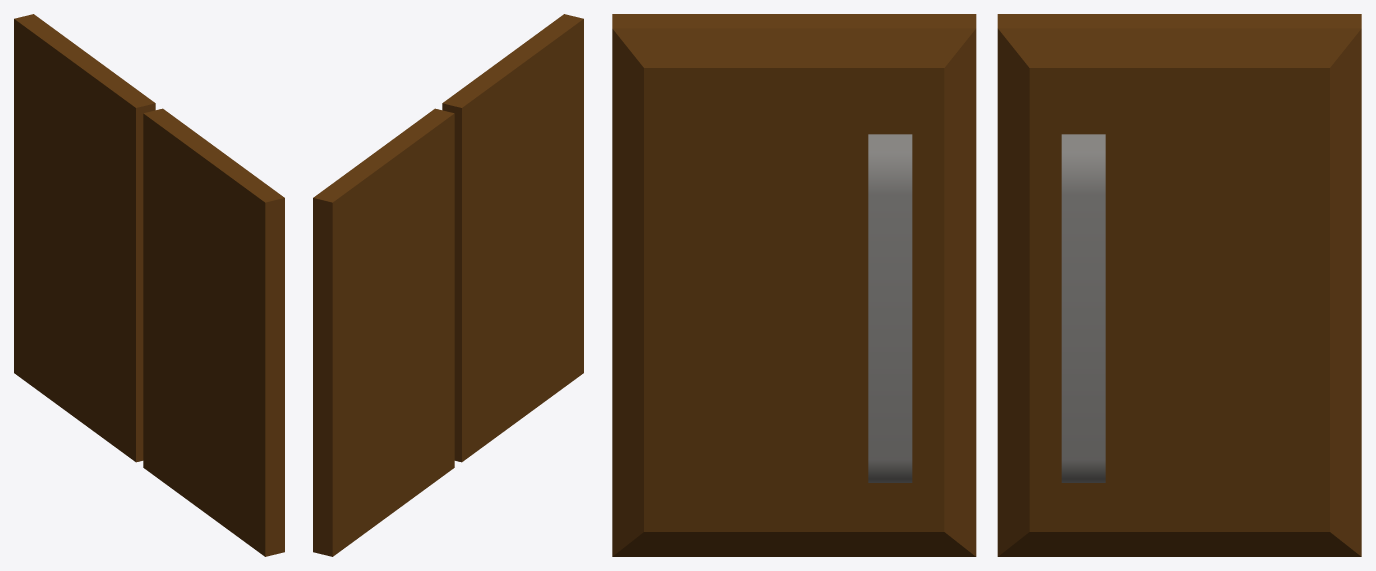
File: SM_Bench_Cupboard.fbx
3 renders of one model, left to right at view 1: azimuth 30°, elevation 25°; view 2: azimuth 150°, elevation 25°; view 3: azimuth 270°, elevation 25°, orthographic. The views are drawn at different scales.
Parts seen in each view (by area): view 1: SM_Bench_Cupboard; view 2: SM_Bench_Cupboard; view 3: SM_Bench_Cupboard.
Part boxes in pixels (x1,y1,x2,y2): SM_Bench_Cupboard: [14, 14, 284, 556]; SM_Bench_Cupboard: [313, 14, 583, 556]; SM_Bench_Cupboard: [612, 14, 1361, 556].
Bounding box in the file's own units: 13.22 × 66.45 × 85.37.
